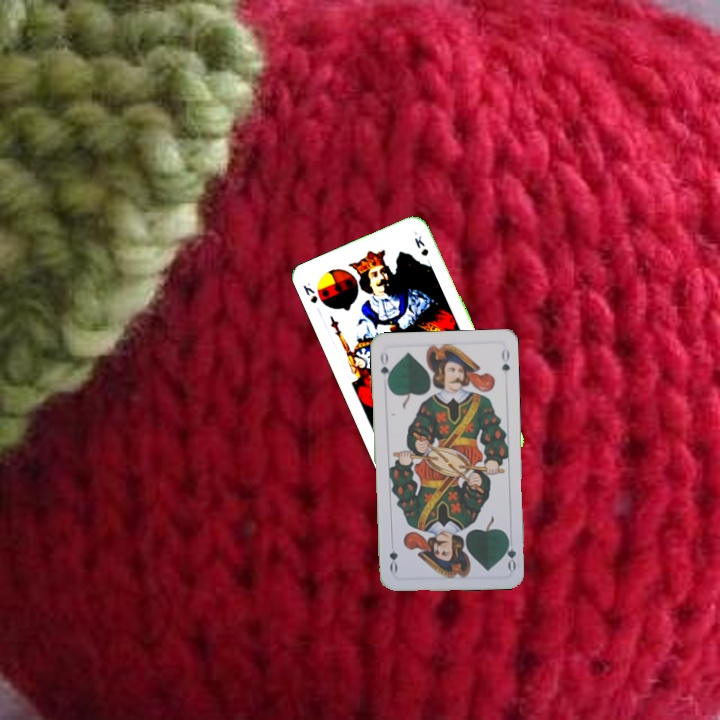GO: (376, 347, 394, 388), (501, 532, 518, 573)
SK: (299, 279, 320, 306)
